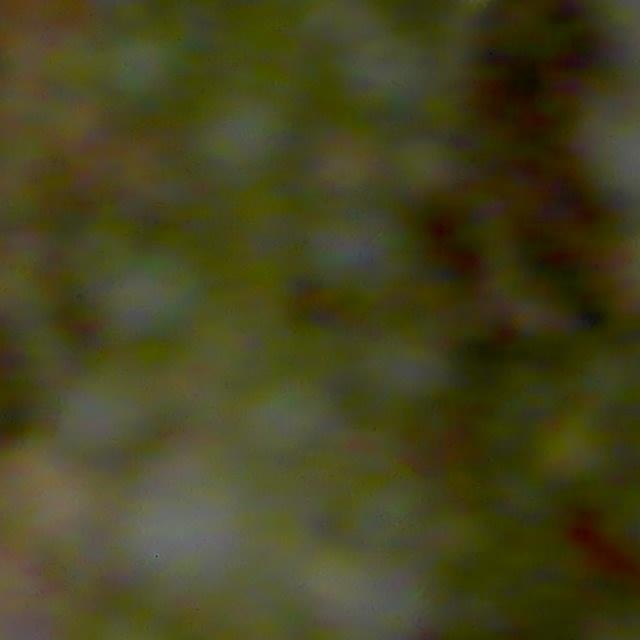SeaGrape: (193, 85, 296, 180), (99, 22, 193, 110), (387, 133, 465, 206)
